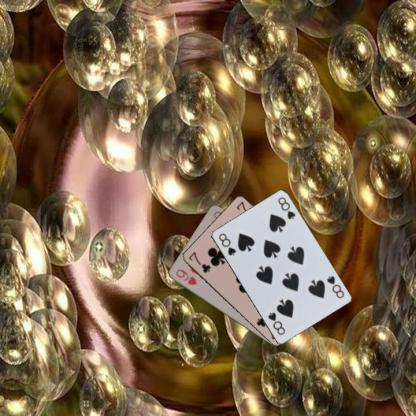7c: (186, 249, 212, 274)
8s: (215, 230, 237, 256), (324, 273, 345, 299)
9h: (172, 266, 198, 286)
